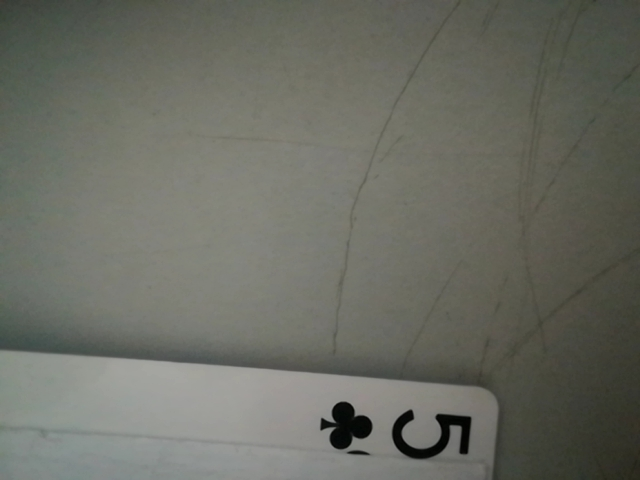mh 5: (308, 389, 484, 470)
